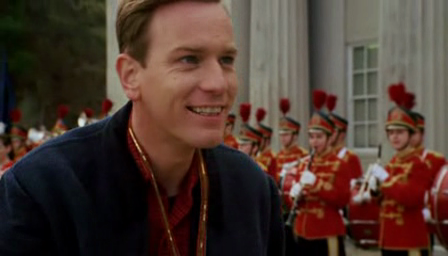cu: (1, 1, 448, 256)
face: (150, 17, 240, 148)
person: (1, 1, 300, 256)
